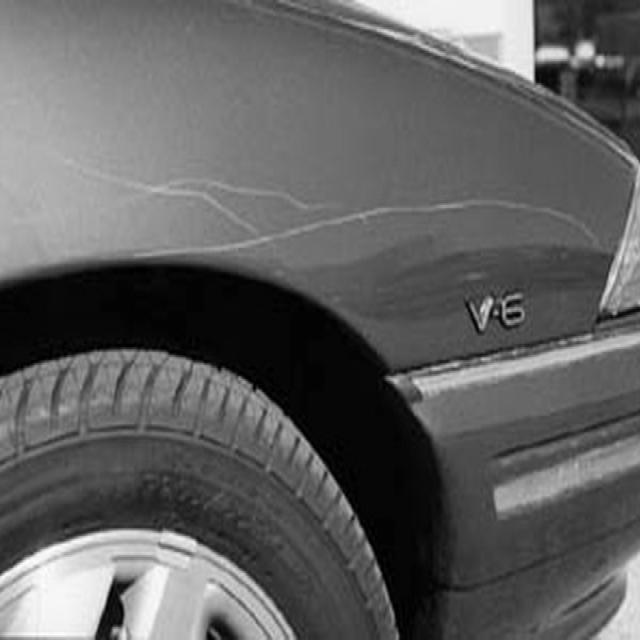scratch: (42, 146, 604, 260)
